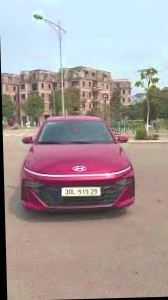Bien-so: (52, 192, 92, 203)
